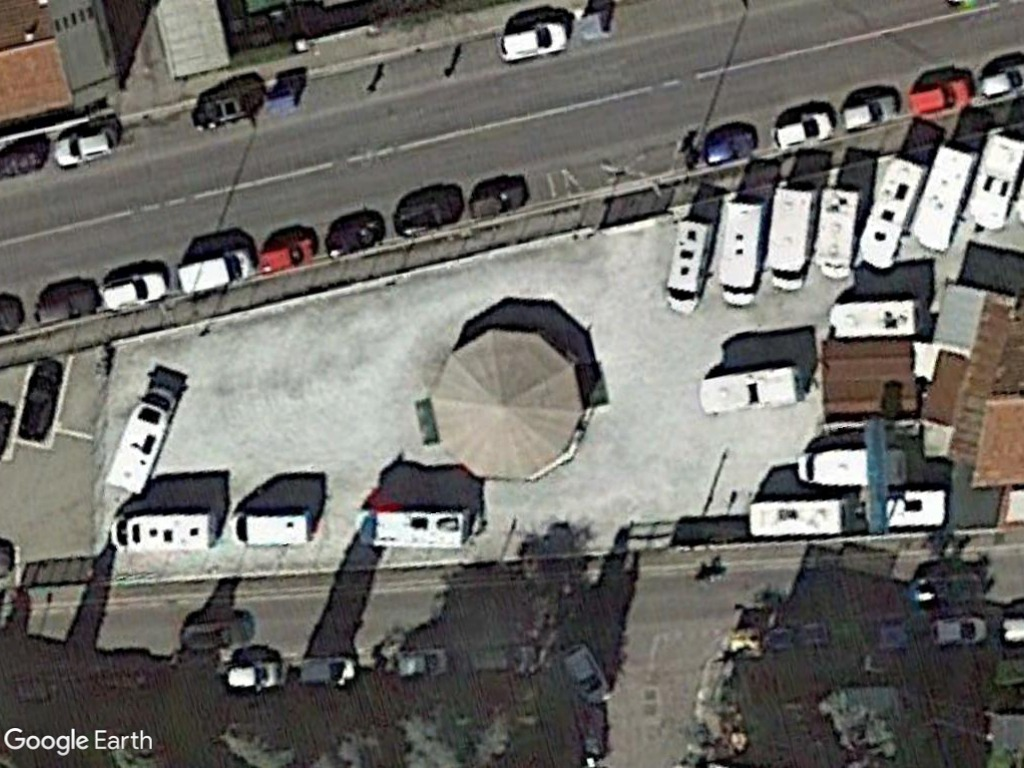bus: (858, 158, 925, 274), (915, 139, 976, 255), (968, 128, 1024, 236), (695, 367, 806, 417), (826, 297, 925, 340), (746, 500, 853, 539)
car: (496, 19, 572, 68), (901, 74, 978, 118), (95, 270, 169, 314), (48, 127, 124, 168), (767, 111, 835, 151), (837, 92, 902, 132)
truck: (110, 510, 219, 554)
van: (103, 384, 175, 498), (764, 182, 817, 297), (715, 192, 767, 309), (352, 505, 475, 553), (794, 444, 912, 489), (664, 216, 717, 316), (813, 182, 864, 284), (170, 246, 259, 298), (230, 505, 317, 552)
